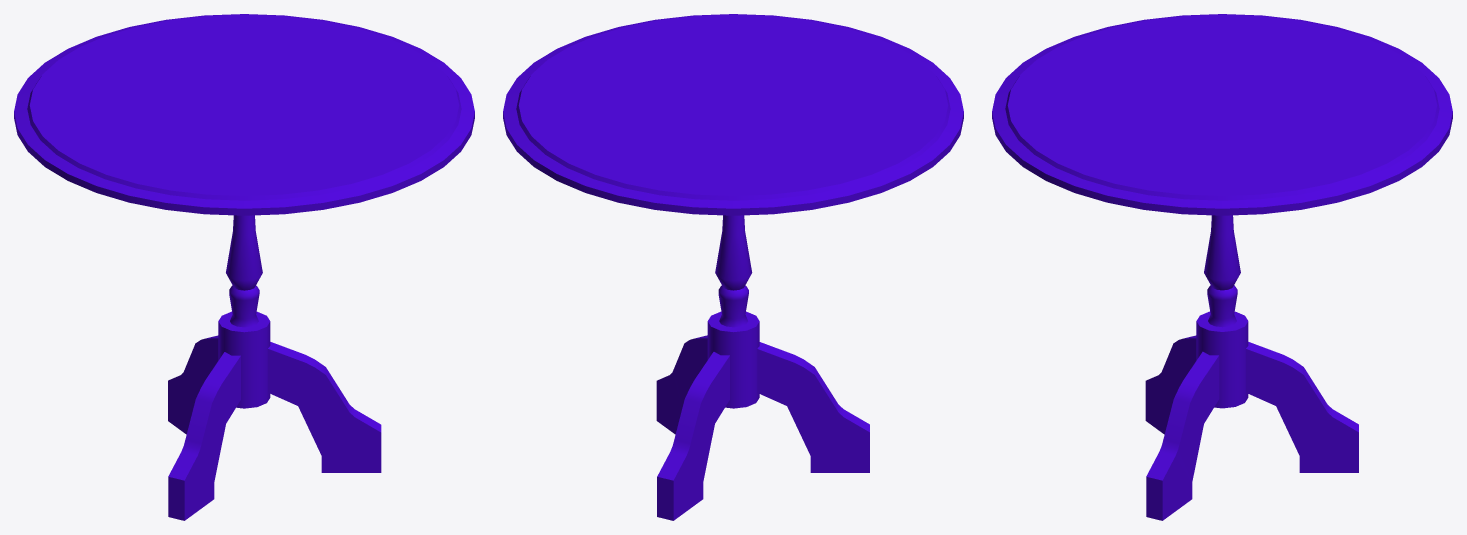
File: Table_02.fbx
The picture shows the model from 3 angles, left to right: view 1: azimuth 30°, elevation 25°; view 2: azimuth 150°, elevation 25°; view 3: azimuth 270°, elevation 25°; orthographic projection.
Parts seen in each view (by area): view 1: Table_02; view 2: Table_02; view 3: Table_02.
Part boxes in pixels (x1,y1,x2,y2): Table_02: [14, 14, 474, 520]; Table_02: [503, 14, 963, 520]; Table_02: [992, 14, 1452, 520].
Size of the model in its own units: 99.16 by 86.32 by 99.16.
